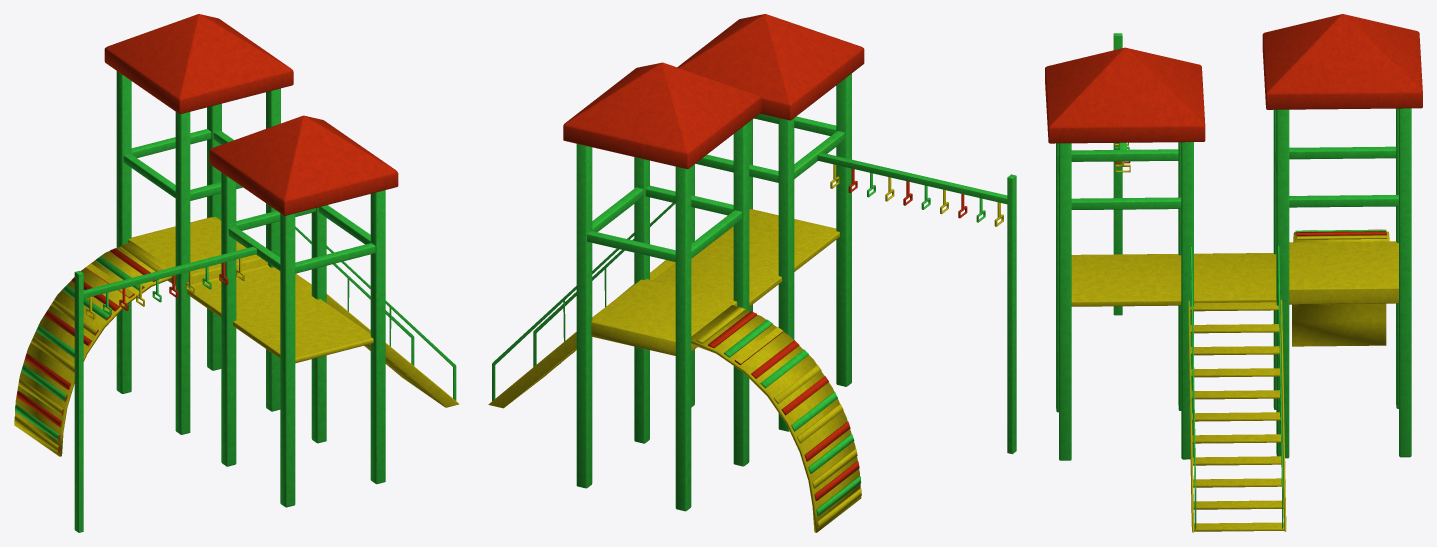
File: climbhouse.glb
3 views of the same model, side by side, from view 1: azimuth 30°, elevation 25°; view 2: azimuth 150°, elevation 25°; view 3: azimuth 270°, elevation 25° (orthographic). The views are drawn at different scales.
Visible parts, largest first — view 1: climbhouse; view 2: climbhouse; view 3: climbhouse.
Part boxes in pixels (x1=…): climbhouse: x1=14, y1=14, x2=459, y2=532; climbhouse: x1=488, y1=14, x2=1016, y2=532; climbhouse: x1=1045, y1=14, x2=1422, y2=532.
Size of the model in its own units: 2.87 by 2.53 by 2.08.
Materials: 1 (1 with a texture image).
